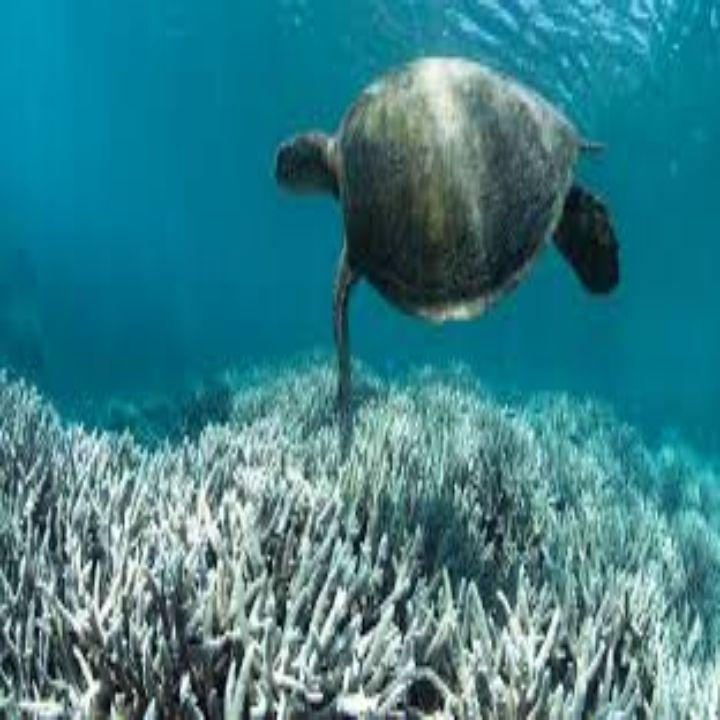Bleached disease: (2, 383, 713, 719)
